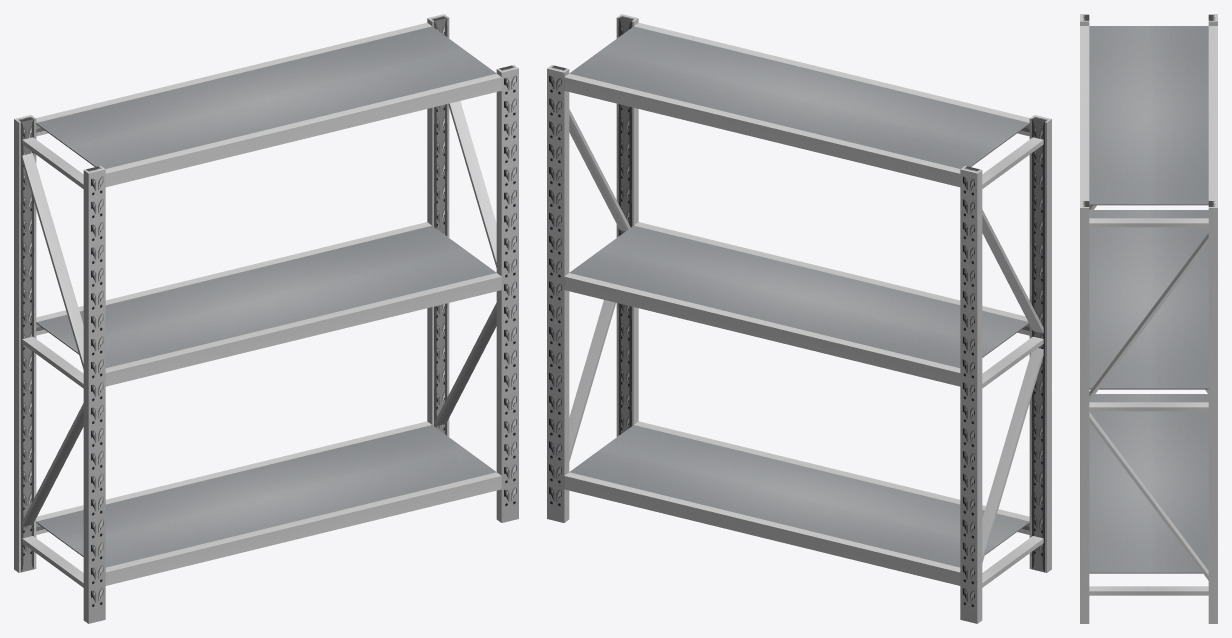
The model's file is BAISE_SAN.obj.
3 renders of one model, left to right at view 1: azimuth 30°, elevation 25°; view 2: azimuth 150°, elevation 25°; view 3: azimuth 270°, elevation 25°, orthographic. The views are drawn at different scales.
Parts seen in each view (by area): view 1: Mesh1; view 2: Mesh1; view 3: Mesh1.
Boxes of the visible parts, bbox=[...] form: Mesh1: bbox=[14, 14, 518, 623]; Mesh1: bbox=[547, 14, 1051, 623]; Mesh1: bbox=[1080, 14, 1217, 623].
Bounding box in the file's own units: 2000 × 2000 × 600.
1 material, 1 textured.
